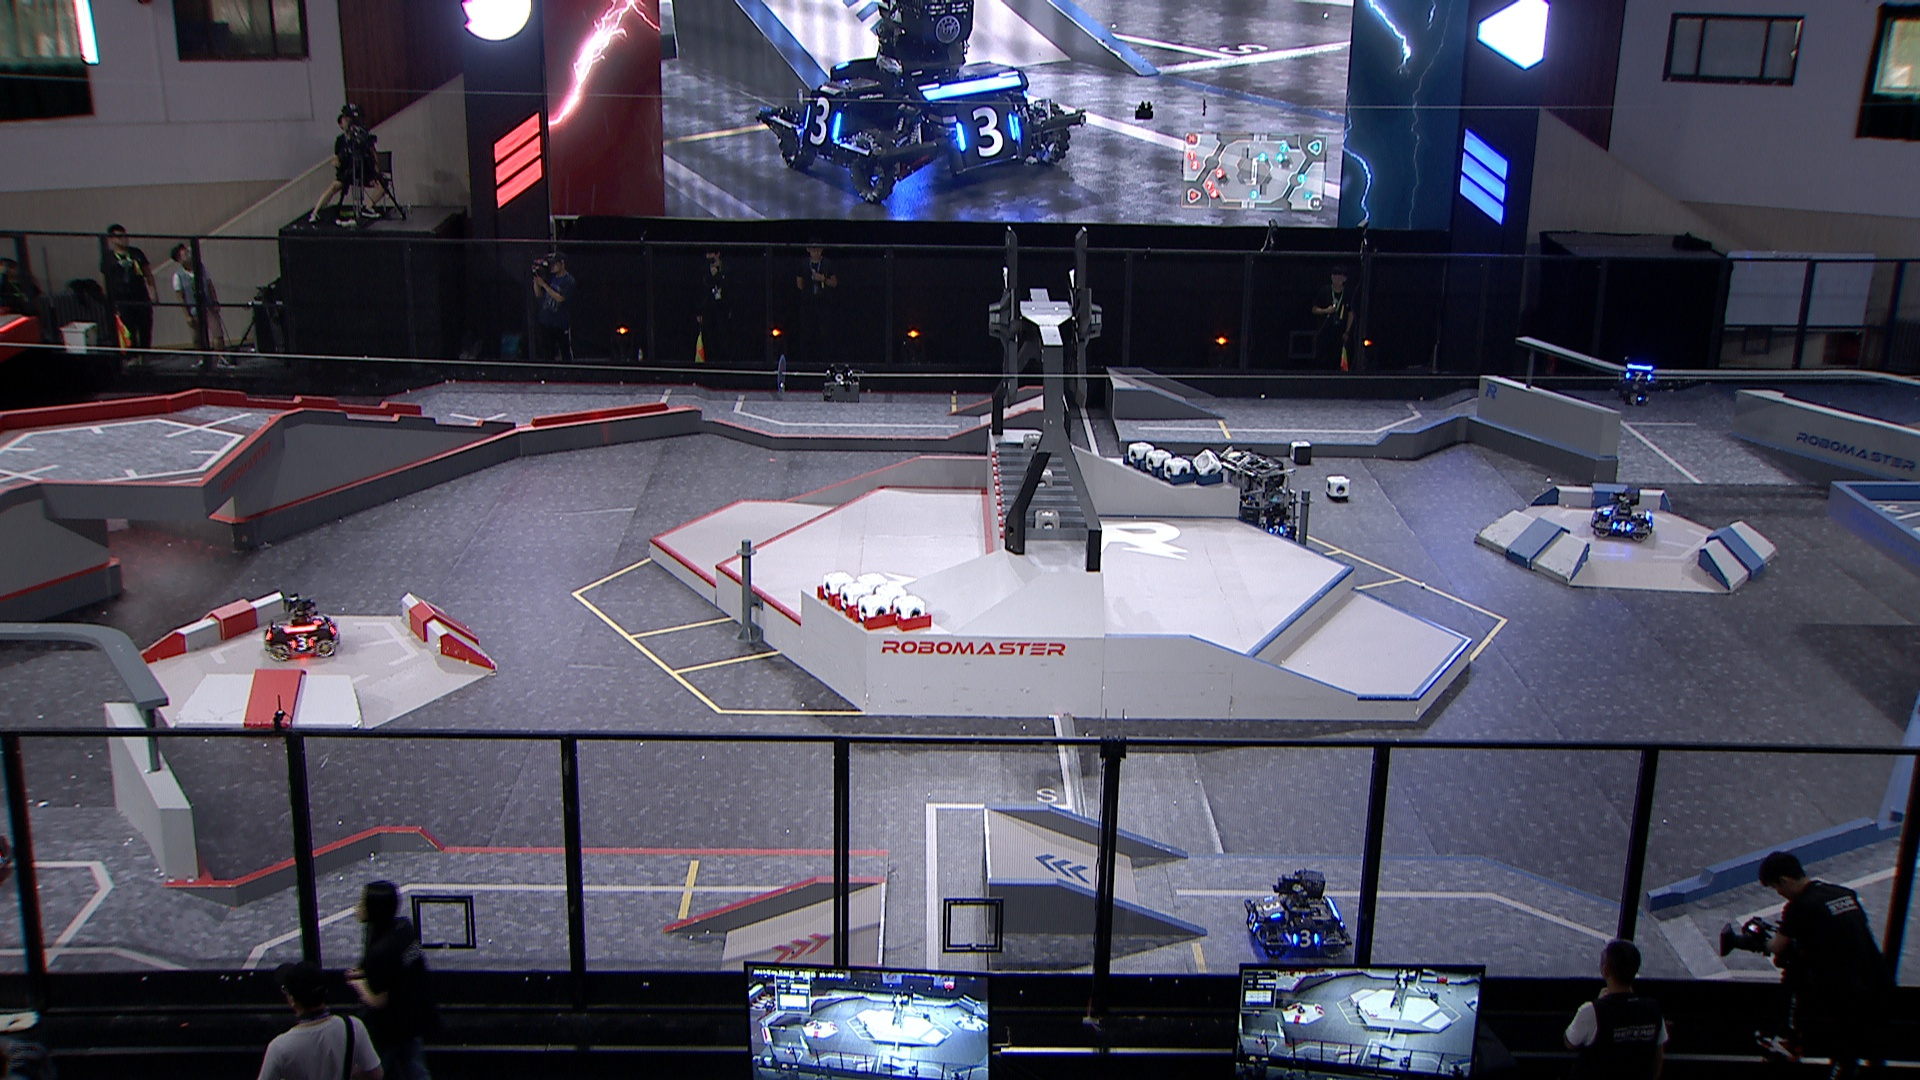armor: (1290, 928, 1320, 949), (1261, 895, 1280, 920), (289, 636, 315, 651), (1245, 910, 1261, 935), (1625, 371, 1654, 382), (1610, 520, 1633, 533), (310, 613, 328, 628), (1269, 524, 1286, 535)
car: (1240, 865, 1352, 959), (1216, 448, 1299, 543), (262, 595, 339, 657), (1585, 487, 1656, 543)
ignore: (756, 0, 1088, 206)
watcher: (1617, 353, 1655, 406)
